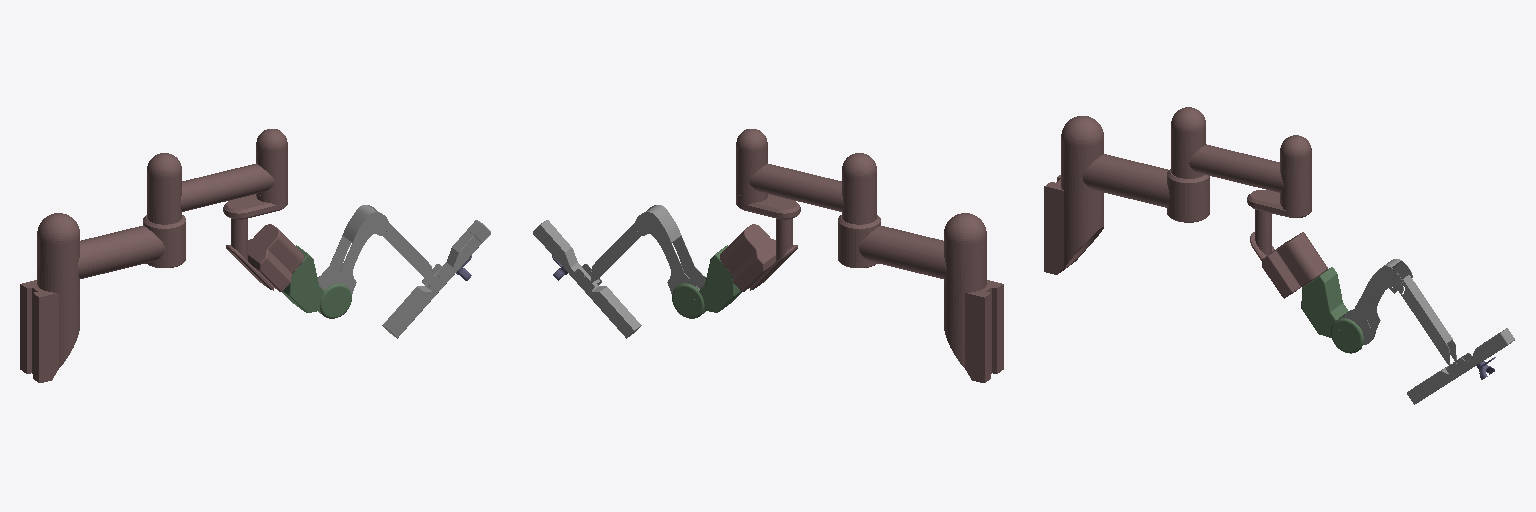
The robot description file, URDF, robot "ecm":
<?xml version="1.0" ?>
<!-- =================================================================================== -->
<!-- |    This document was autogenerated by xacro from ECM.urdf.xacro                 | -->
<!-- |    EDITING THIS FILE BY HAND IS NOT RECOMMENDED                                 | -->
<!-- =================================================================================== -->
<robot name="ecm" xmlns:xacro="http://www.ros.org/wiki/xacro">
  <material name="DaVinciWhite">
    <color rgba="1.0 1.0 1.0 1"/>
  </material>
  <material name="DaVinciLightGray">
    <color rgba="0.8 0.8 0.8 1"/>
  </material>
  <material name="DaVinciMedGray">
    <color rgba="0.6 0.6 0.6 1"/>
  </material>
  <material name="DaVinciDarkGray">
    <color rgba="0.4 0.4 0.4 1"/>
  </material>
  <material name="DaVinciRed">
    <color rgba="0.5 0.4 0.4 1"/>
  </material>
  <material name="DaVinciGreen">
    <color rgba="0.4 0.5 0.4 1"/>
  </material>
  <material name="DaVinciBlue">
    <color rgba="0.4 0.4 0.5 1"/>
  </material>
  <link name="world"/>
  <!-- Joint 0: Fixed to World-->
  <joint name="setup_fixed_joint" type="fixed">
    <parent link="world"/>
    <child link="ecm_setup_base_link"/>
    <origin rpy="0.0 0.0 0.0" xyz="0 0.0 0.0"/>
  </joint>
  <link name="ecm_setup_base_link"/>
  <joint name="setup_tip_joint" type="fixed">
    <parent link="ecm_setup_base_link"/>
    <child link="ecm_setup_link"/>
    <origin rpy="-0.87046370379 0 -1.57079632679" xyz="0.91324 -0.02111 0.03166"/>
    <axis xyz="0 0 1"/>
  </joint>
  <link name="ecm_setup_link">
    <visual>
      <origin rpy="0 0 0" xyz="0 0 0"/>
      <geometry>
        <mesh filename="package://dvrk_model/meshes/ecm/Endo_Arm.dae"/>
      </geometry>
      <material name="DaVinciRed"/>
    </visual>
    <collision>
      <origin rpy="0 0 0" xyz="0 0 0"/>
      <geometry>
        <mesh filename="package://dvrk_model/meshes/ecm/Endo_Arm.dae"/>
      </geometry>
    </collision>
  </link>
  <!-- Joint 0: Fixed to Setup Joint-->
  <joint name="fixed_joint" type="fixed">
    <parent link="ecm_setup_link"/>
    <child link="ecm_base_link"/>
    <origin rpy="0 0 0" xyz="0 0.603 0"/>
  </joint>
  <link name="ecm_base_link"/>
  <!-- Joint 1: Outer Yaw -->
  <joint name="outer_yaw" type="revolute">
    <parent link="ecm_base_link"/>
    <child link="ecm_yaw_link"/>
    <origin rpy="0 -1.57079632679 1.57079632679" xyz="0 0 0"/>
    <axis xyz="0 0 1"/>
    <!--rotates about z axis-->
    <!--limit effort and velocity picked arbitrarily check-->
    <limit effort="50.0" lower="-1.308996939" upper="0.785398163397" velocity="2"/>
    <joint_properties damping="1.0" friction="0.0"/>
  </joint>
  <link name="ecm_yaw_link">
    <visual>
      <origin rpy="0 0 -1.57079632679" xyz="0.0 0 0.603"/>
      <geometry>
        <mesh filename="package://dvrk_model/meshes/ecm/Endo_Link_5.dae"/>
      </geometry>
      <material name="DaVinciGreen"/>
    </visual>
    <collision>
      <origin rpy="0 0 -1.57079632679" xyz="0.0 0 0.603"/>
      <geometry>
        <mesh filename="package://dvrk_model/meshes/ecm/Endo_Link_5.dae"/>
      </geometry>
    </collision>
  </link>
  <!-- Joint 2: Pitch -->
  <joint name="outer_pitch" type="revolute">
    <parent link="ecm_yaw_link"/>
    <child link="ecm_pitch_link"/>
    <origin rpy="-1.57079632679 -1.57079632679 0" xyz="0 0 0"/>
    <axis xyz="0 0 1"/>
    <limit effort="100.0" lower="-0.785398163397" upper="1.1344640138" velocity="10"/>
    <joint_properties damping="1.0" friction="0.0"/>
  </joint>
  <link name="ecm_pitch_link"/>
  <joint name="outer_pitch_0" type="continuous">
    <parent link="ecm_yaw_link"/>
    <child link="ecm_pitch_link_1"/>
    <origin rpy="-1.57079632679 -1.57079632679 0" xyz="0 0 0.378"/>
    <axis xyz="0 0 1"/>
    <joint_properties damping="1.0" friction="0.0"/>
    <mimic joint="outer_pitch" multiplier="1"/>
  </joint>
  <link name="ecm_pitch_link_1">
    <visual>
      <origin rpy="3.14159265359 0 1.37008346282" xyz="0.0 0 0.0"/>
      <geometry>
        <mesh filename="package://dvrk_model/meshes/ecm/Endo_Link_5_2.dae"/>
      </geometry>
      <material name="DaVinciMedGray"/>
    </visual>
    <collision>
      <origin rpy="3.14159265359 0 1.37008346282" xyz="0.0 0 0.0"/>
      <geometry>
        <mesh filename="package://dvrk_model/meshes/ecm/Endo_Link_5_2.dae"/>
      </geometry>
    </collision>
    <inertial>
      <mass value=".9"/>
      <inertia ixx="9.0" ixy="0.0" ixz="0.0" iyy="9.0" iyz="0.0" izz="9.0"/>
    </inertial>
  </link>
  <joint name="outer_pitch_1" type="continuous">
    <parent link="ecm_pitch_link_1"/>
    <child link="ecm_pitch_link_2"/>
    <origin rpy="0 0 0" xyz="0.0558629 0.274575 0"/>
    <axis xyz="0 0 1"/>
    <joint_properties damping="1.0" friction="0.0"/>
    <mimic joint="outer_pitch" multiplier="-1"/>
  </joint>
  <link name="ecm_pitch_link_2">
    <visual>
      <origin rpy="0 0 0" xyz="0.0 0 -0.0225"/>
      <geometry>
        <mesh filename="package://dvrk_model/meshes/ecm/Endo_Link_6_2.dae"/>
      </geometry>
      <material name="DaVinciMedGray"/>
    </visual>
    <collision>
      <origin rpy="0 0 0" xyz="0.0 0 -0.0225"/>
      <geometry>
        <mesh filename="package://dvrk_model/meshes/ecm/Endo_Link_6_2.dae"/>
      </geometry>
    </collision>
    <inertial>
      <mass value=".9"/>
      <inertia ixx="9.0" ixy="0.0" ixz="0.0" iyy="9.0" iyz="0.0" izz="9.0"/>
    </inertial>
  </link>
  <joint name="outer_pitch_2" type="continuous">
    <parent link="ecm_pitch_link_2"/>
    <child link="ecm_pitch_link_3"/>
    <origin rpy="0 0 0" xyz="-0.340 0 0"/>
    <axis xyz="0 0 1"/>
    <joint_properties damping="1.0" friction="0.0"/>
    <mimic joint="outer_pitch" multiplier="1"/>
  </joint>
  <link name="ecm_pitch_link_3">
    <visual>
      <origin rpy="0 0 -1.57079632679" xyz="0.0 0 0.025"/>
      <geometry>
        <mesh filename="package://dvrk_model/meshes/ecm/Endo_Link_7.dae"/>
      </geometry>
      <material name="DaVinciMedGray"/>
    </visual>
    <collision>
      <origin rpy="0 0 -1.57079632679" xyz="0.0 0 0.025"/>
      <geometry>
        <mesh filename="package://dvrk_model/meshes/ecm/Endo_Link_7.dae"/>
      </geometry>
    </collision>
    <inertial>
      <mass value=".9"/>
      <inertia ixx="9.0" ixy="0.0" ixz="0.0" iyy="9.0" iyz="0.0" izz="9.0"/>
    </inertial>
  </link>
  <!-- Joint 3: Insertion -->
  <joint name="insertion" type="prismatic">
    <parent link="ecm_pitch_link"/>
    <child link="ecm_insertion_link"/>
    <origin rpy="1.57079632679 0 0" xyz="0 0.3822 0"/>
    <axis xyz="0 0 1"/>
    <joint_properties damping="1.0" friction="0.0"/>
    <limit effort="100.0" lower="0" upper="0.235" velocity="10"/>
  </joint>
  <link name="ecm_insertion_link">
    <visual>
      <origin rpy="0 0 -1.57079632679" xyz="0.0 0 -0.015"/>
      <geometry>
        <mesh filename="package://dvrk_model/meshes/ecm/Endo_Link_8.dae"/>
      </geometry>
      <material name="DaVinciBlue"/>
    </visual>
    <collision>
      <origin rpy="0 0 -1.57079632679" xyz="0.0 0 -0.015"/>
      <geometry>
        <mesh filename="package://dvrk_model/meshes/ecm/Endo_Link_8.dae"/>
      </geometry>
    </collision>
  </link>
  <!-- Joint 4: Roll -->
  <joint name="outer_roll" type="revolute">
    <parent link="ecm_insertion_link"/>
    <child link="ecm_roll_link"/>
    <origin rpy="0 0 0" xyz="0 0 0.3829"/>
    <axis xyz="0 0 1"/>
    <joint_properties damping="1.0" friction="0.0"/>
    <limit effort="100.0" lower="-1.57079632679" upper="1.57079632679" velocity="10"/>
  </joint>
  <link name="ecm_roll_link">
    <visual>
      <origin rpy="0 0 1.57079632679" xyz="0.0 0 -0.3979"/>
      <geometry>
        <mesh filename="package://dvrk_model/meshes/ecm/EndoScope.dae"/>
      </geometry>
      <material name="DaVinciBlue"/>
    </visual>
    <collision>
      <origin rpy="0 0 1.57079632679" xyz="0.0 0 -0.3979"/>
      <geometry>
        <mesh filename="package://dvrk_model/meshes/ecm/EndoScope.dae"/>
      </geometry>
    </collision>
  </link>
</robot>

--- What the picture shows (computed from the rendered views, not written in the file) ---
The picture shows the robot from 3 angles, left to right: view 1: azimuth 30°, elevation 25°; view 2: azimuth 150°, elevation 25°; view 3: azimuth 330°, elevation 25°; orthographic projection.
Robot: ecm — 11 links, 10 joints (3 revolute, 3 continuous, 1 prismatic, 3 fixed); root link world; default pose: all joints at 0.
Visible links, largest first — view 1: ecm_setup_link, ecm_pitch_link_3, ecm_pitch_link_1, ecm_yaw_link, ecm_pitch_link_2; view 2: ecm_setup_link, ecm_pitch_link_3, ecm_pitch_link_1, ecm_yaw_link, ecm_pitch_link_2; view 3: ecm_setup_link, ecm_yaw_link, ecm_pitch_link_1, ecm_pitch_link_3, ecm_pitch_link_2.
Boxes of the visible links, bbox=[...] form: ecm_setup_link: bbox=[20, 129, 303, 382]; ecm_pitch_link_3: bbox=[382, 220, 490, 338]; ecm_pitch_link_1: bbox=[318, 205, 388, 313]; ecm_yaw_link: bbox=[282, 245, 351, 318]; ecm_pitch_link_2: bbox=[378, 223, 432, 285]; ecm_setup_link: bbox=[720, 129, 1003, 382]; ecm_pitch_link_3: bbox=[533, 220, 641, 338]; ecm_pitch_link_1: bbox=[635, 205, 705, 313]; ecm_yaw_link: bbox=[672, 245, 741, 318]; ecm_pitch_link_2: bbox=[591, 223, 645, 285]; ecm_setup_link: bbox=[1044, 107, 1327, 298]; ecm_yaw_link: bbox=[1301, 267, 1375, 353]; ecm_pitch_link_1: bbox=[1340, 259, 1412, 349]; ecm_pitch_link_3: bbox=[1407, 328, 1514, 404]; ecm_pitch_link_2: bbox=[1386, 275, 1456, 364].
Bounding box of the posed robot: 1.81 × 0.155 × 0.8996 m (x, y, z).
6 mesh visuals loaded from 7 distinct referenced files (6 Collada DAE); not drawn: 1 (reference not matched to a file when rendering).